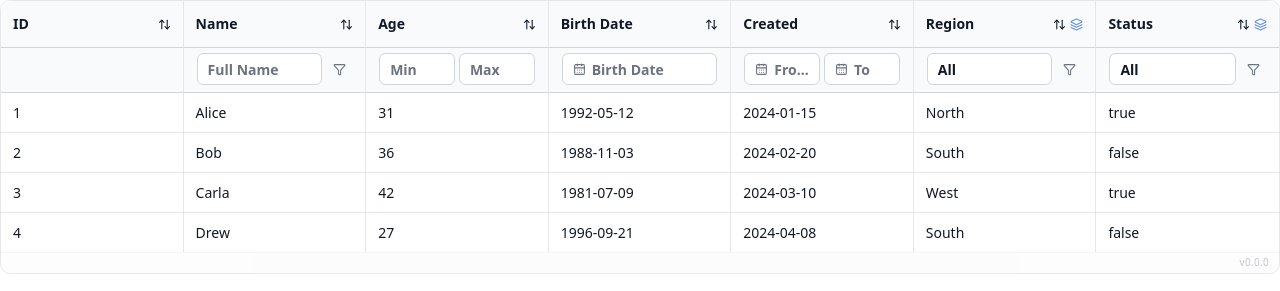
Test: DataTable - advanced column filters › number filter renders and filters rows predictably
In the number field named "Minimum Age filter": (417,69) [379,53,455,85], type "35"
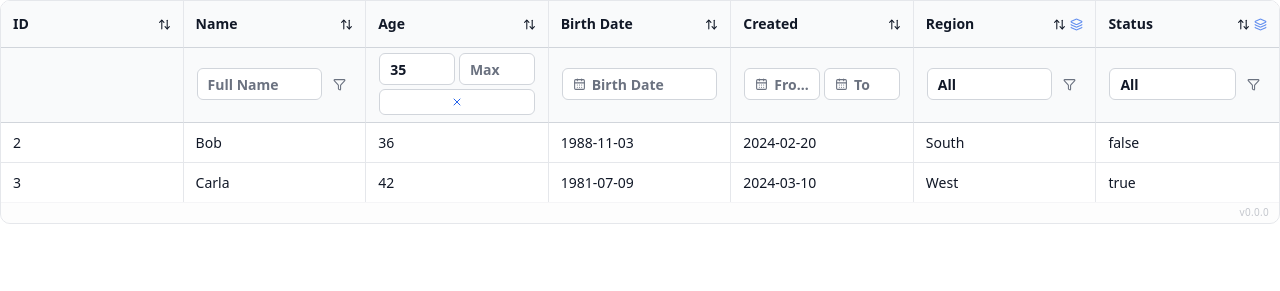
In the number field named "Maximum Age filter": (497,69) [459,53,535,85], type "40"
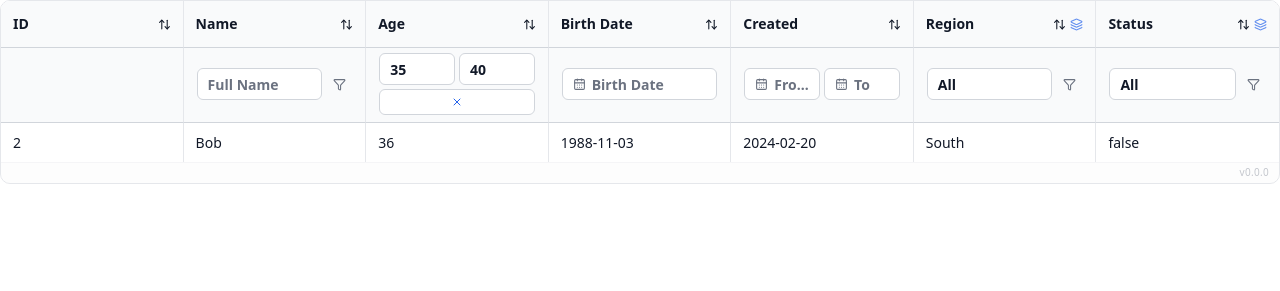
Expected: the text "Bob" is shown, [184,123,366,162]
Expected: the text "Carla" is gone
